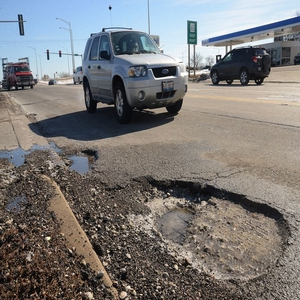pothole: (126, 175, 292, 284), (62, 150, 99, 180)
